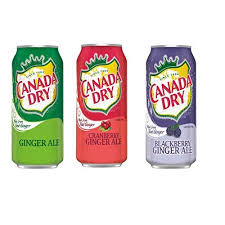Lata: (10, 42, 66, 172)
